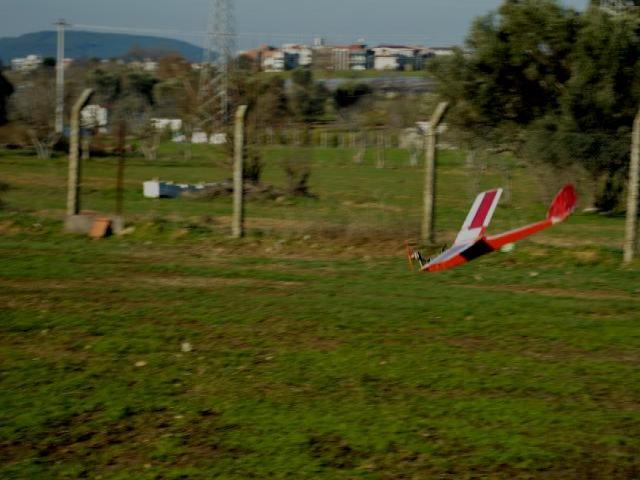iha: (387, 182, 593, 281)
